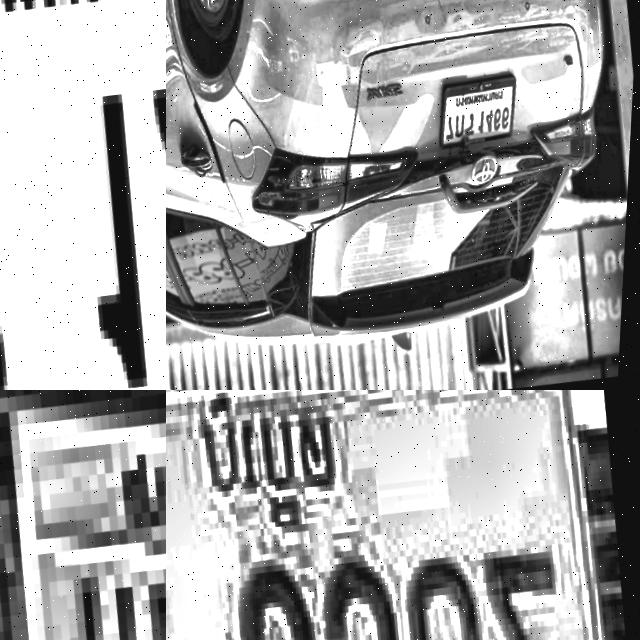license-plate: (166, 390, 640, 640), (0, 0, 166, 390), (0, 390, 166, 640), (433, 64, 533, 153)
